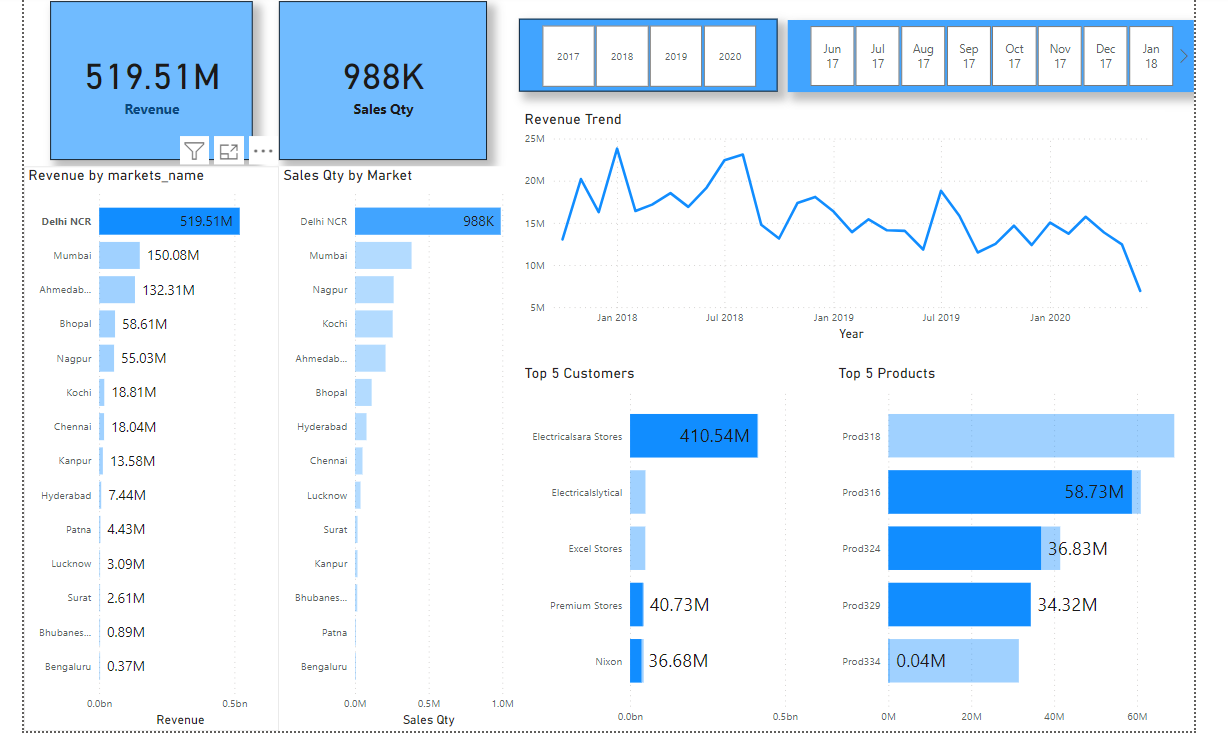

This screenshot's page, from the dashboard's own definition file:
{"tool":"powerbi","page":{"name":"Page 1","canvas":[1350,850],"ordinal":0},"visuals":[{"type":"card","fields":{"Values":["BaseMeasures.Revenue"]},"box":[30,6.7,233.3,183.3],"z":0},{"type":"card","fields":{"Values":["BaseMeasures.Sales Qty"]},"box":[295,6.7,240,183.3],"z":1000},{"type":"barChart","fields":{"Y":["BaseMeasures.Revenue"],"Category":["sales markets.markets_name"]},"box":[0,197.7,294.4,652.3],"z":2000},{"type":"barChart","title":"Sales Qty by Market","fields":{"Y":["BaseMeasures.Sales Qty"],"Category":["sales markets.markets_name"]},"box":[294.4,197.7,277.1,652.3],"z":3000},{"type":"slicer","fields":{"Values":["sales date.year"]},"box":[571.4,27.1,298.6,84.3],"z":4000},{"type":"slicer","fields":{"Values":["sales date.cy_date"]},"box":[881.4,28.6,468.6,82.8],"z":5000},{"type":"barChart","title":"Top 5 Customers","fields":{"Y":["BaseMeasures.Revenue"],"Category":["sales customers.custmer_name"]},"box":[573.3,425,361.7,425],"z":6000},{"type":"barChart","title":"Top 5 Products","fields":{"Category":["sales transactions.product_code"],"Y":["BaseMeasures.Revenue"]},"box":[935,425,415,425],"z":7000},{"type":"lineChart","title":"Revenue Trend","fields":{"Y":["BaseMeasures.Revenue"],"Category":["sales date.cy_date.Variation.Date Hierarchy.Year","sales date.cy_date.Variation.Date Hierarchy.Quarter","sales date.cy_date.Variation.Date Hierarchy.Month","sales date.cy_date.Variation.Date Hierarchy.Day"]},"box":[573.3,133.3,745,271.7],"z":8000}]}

Visuals, with their boxes on the page's 1350x850 design canvas (x1, y1, x2, y2). These are canvas units, not pixel positions in the 1228x735 screenshot, which may show the page scaled, cropped or inside an application window:
card - BaseMeasures.Revenue: [30,7,263,190]
card - BaseMeasures.Sales Qty: [295,7,535,190]
barChart - BaseMeasures.Revenue x sales markets.markets_name: [0,198,294,850]
"Sales Qty by Market" barChart: [294,198,572,850]
slicer - sales date.year: [571,27,870,111]
slicer - sales date.cy_date: [881,29,1350,111]
"Top 5 Customers" barChart: [573,425,935,850]
"Top 5 Products" barChart: [935,425,1350,850]
"Revenue Trend" lineChart: [573,133,1318,405]
